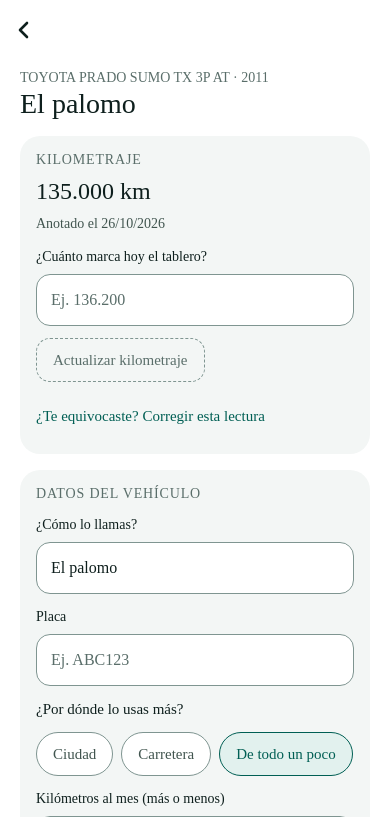
Test: kilometraje en el detalle del vehículo › muestra el error de la corrección y se puede cancelar
Click the button "¿Te equivocaste? Corregir esta lectura" at (195, 416), box [36,394,354,438]
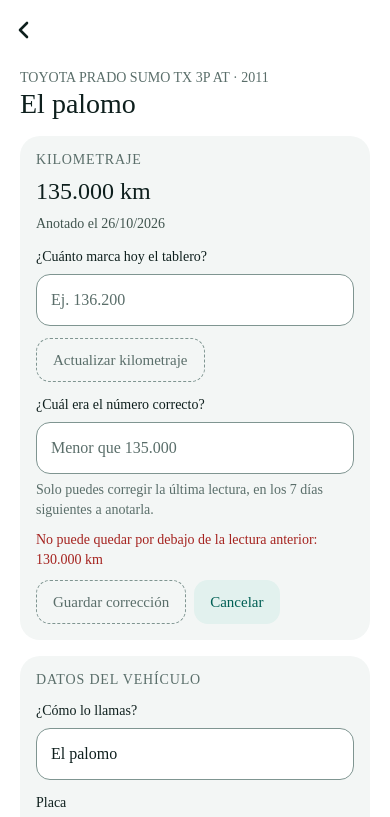
Result: the text "No puede quedar por debajo de la lectura anterior: 130.000 km" is shown at [36,530,354,570]
Click the button "Cancelar" at (237, 602), box [194,580,280,624]
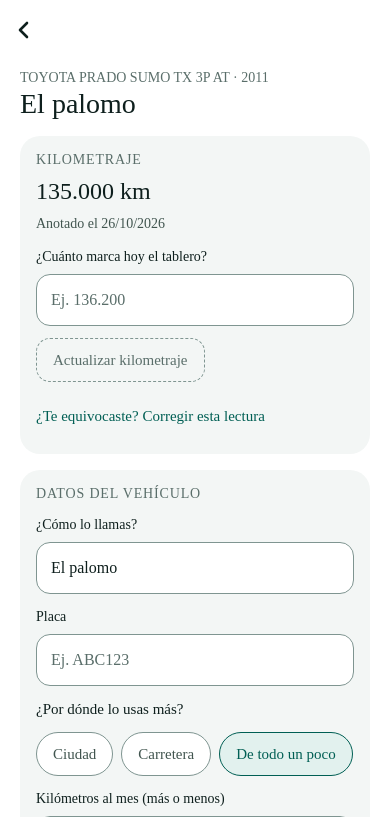
Result: the text labelled "¿Cuál era el número correcto?" is gone
